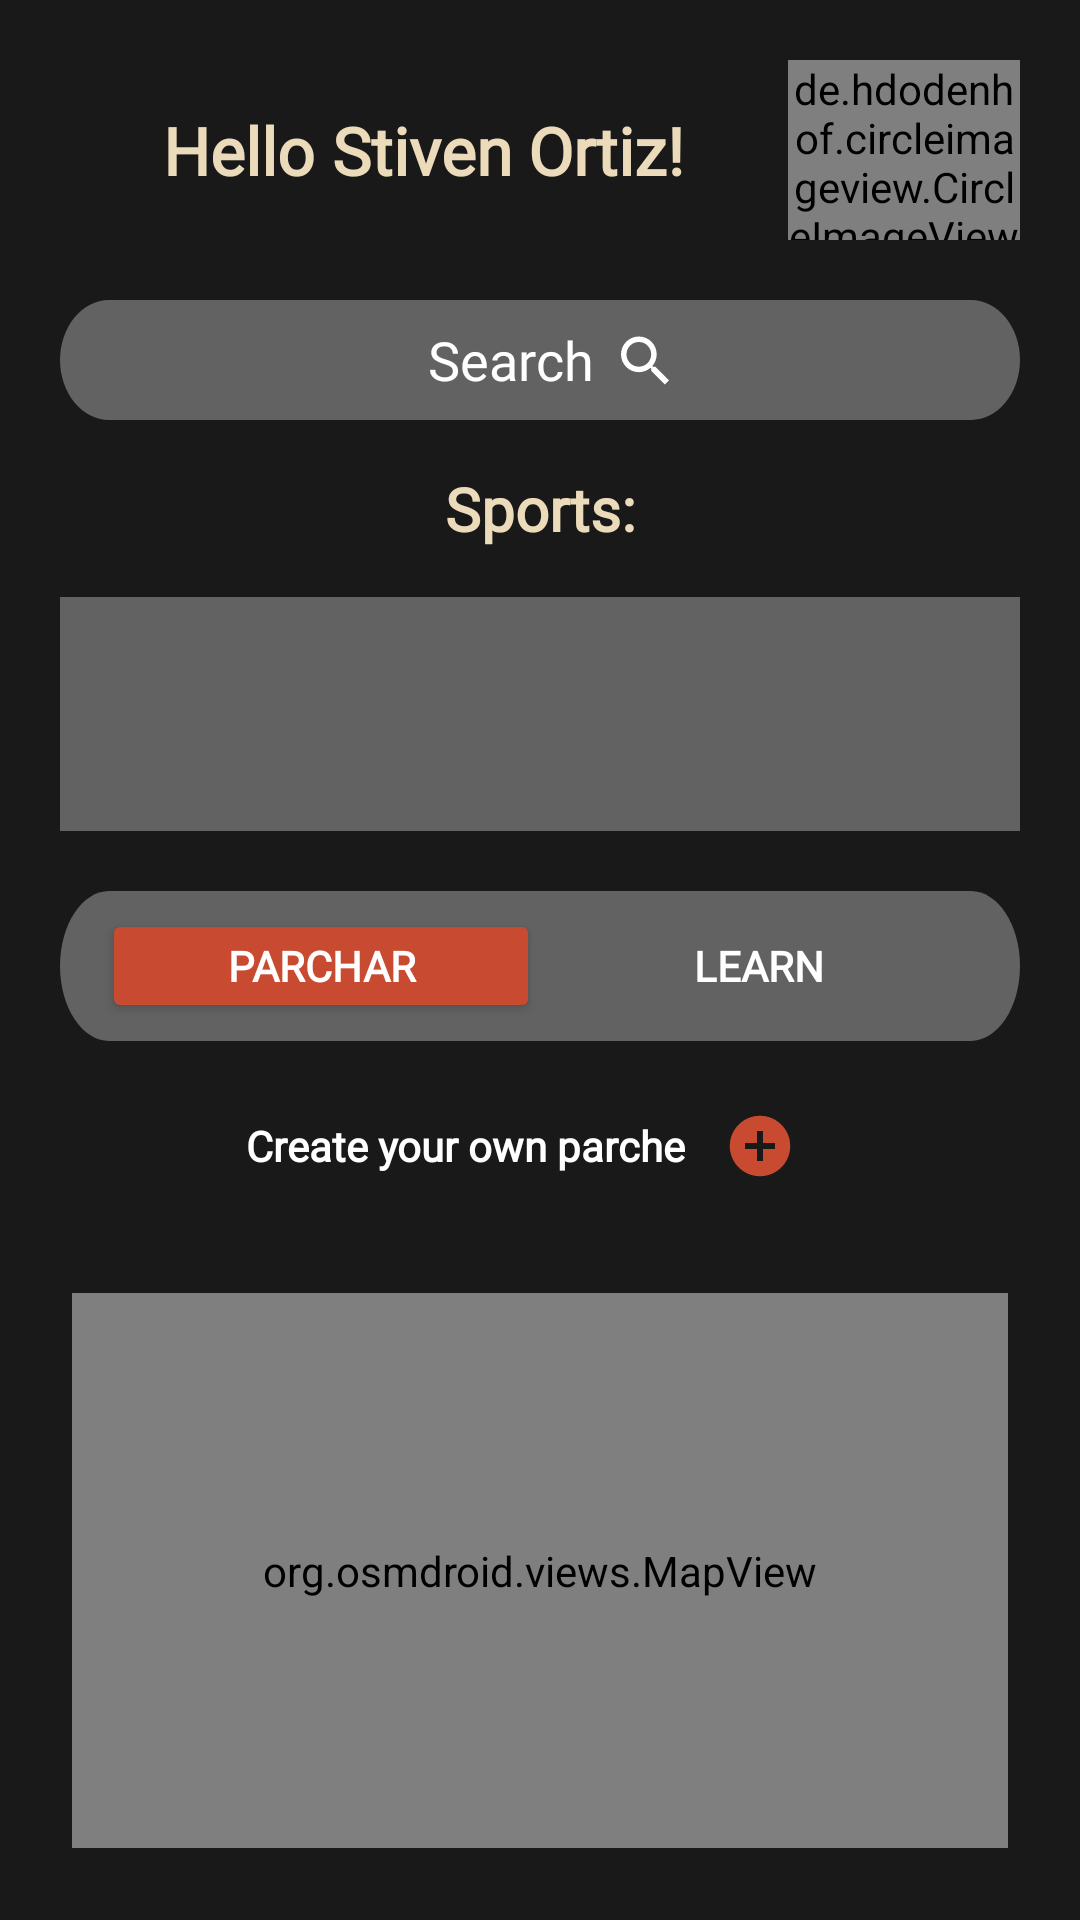

Icons on this 1080×1920 Android screen, each with the point to tap as (x=x, y=y):
add: (x=760, y=1146)
magnifying glass: (x=645, y=360)
